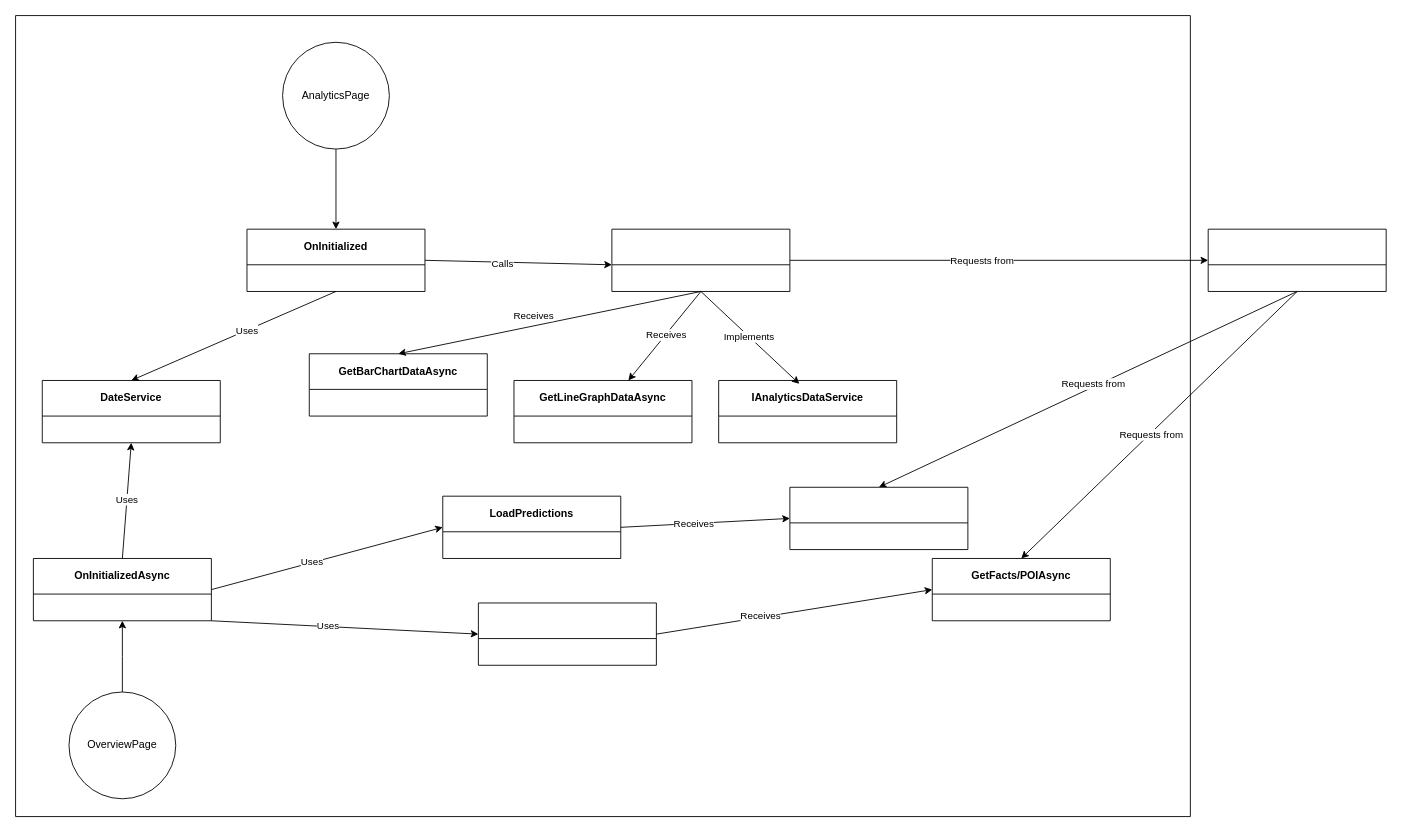
Image size: 1402x832. Some labels were removed from this diagram. The shapes that lost their labels are listed below. From the top down, each one's box as (x1, y1, x2, y2) in pixels, then its label:
(611, 228, 790, 291): AnalyticsDataService
(1207, 228, 1386, 291): MainApi
(789, 486, 968, 550): FetchMonthParallelAsync
(477, 602, 656, 665): OnDayClicked
